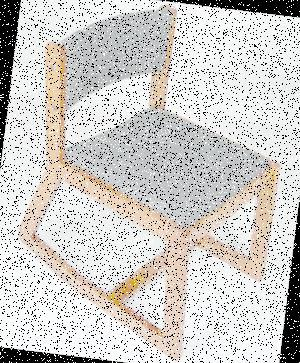Silla: (7, 0, 300, 362)
